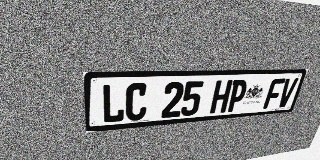2: (161, 82, 185, 118)
5: (180, 81, 204, 116)
C: (125, 83, 149, 121)
F: (263, 78, 286, 109)
H: (209, 80, 233, 114)
L: (102, 83, 125, 124)
P: (226, 80, 249, 112)
V: (276, 78, 299, 108)
